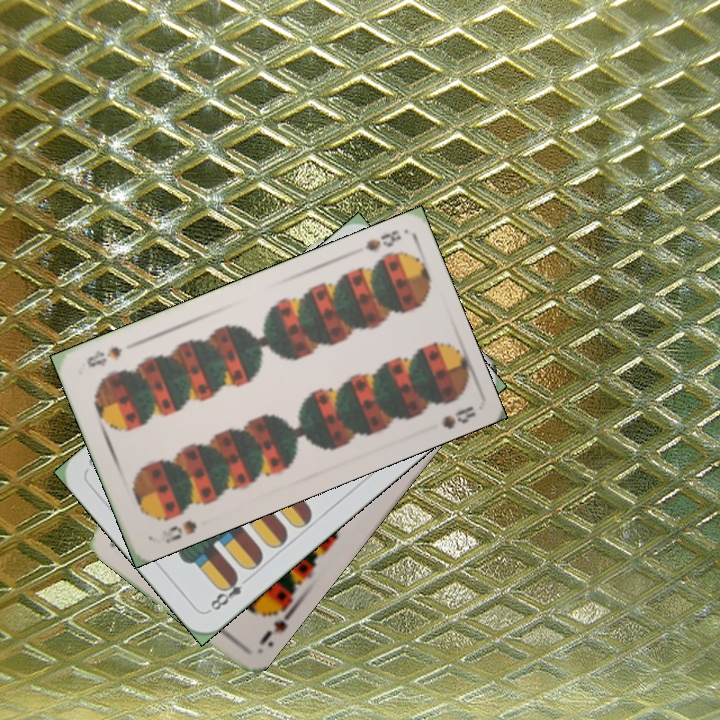E8: (204, 570, 254, 614)
S8: (151, 515, 200, 546), (361, 225, 404, 255)
S9: (255, 599, 299, 649)
